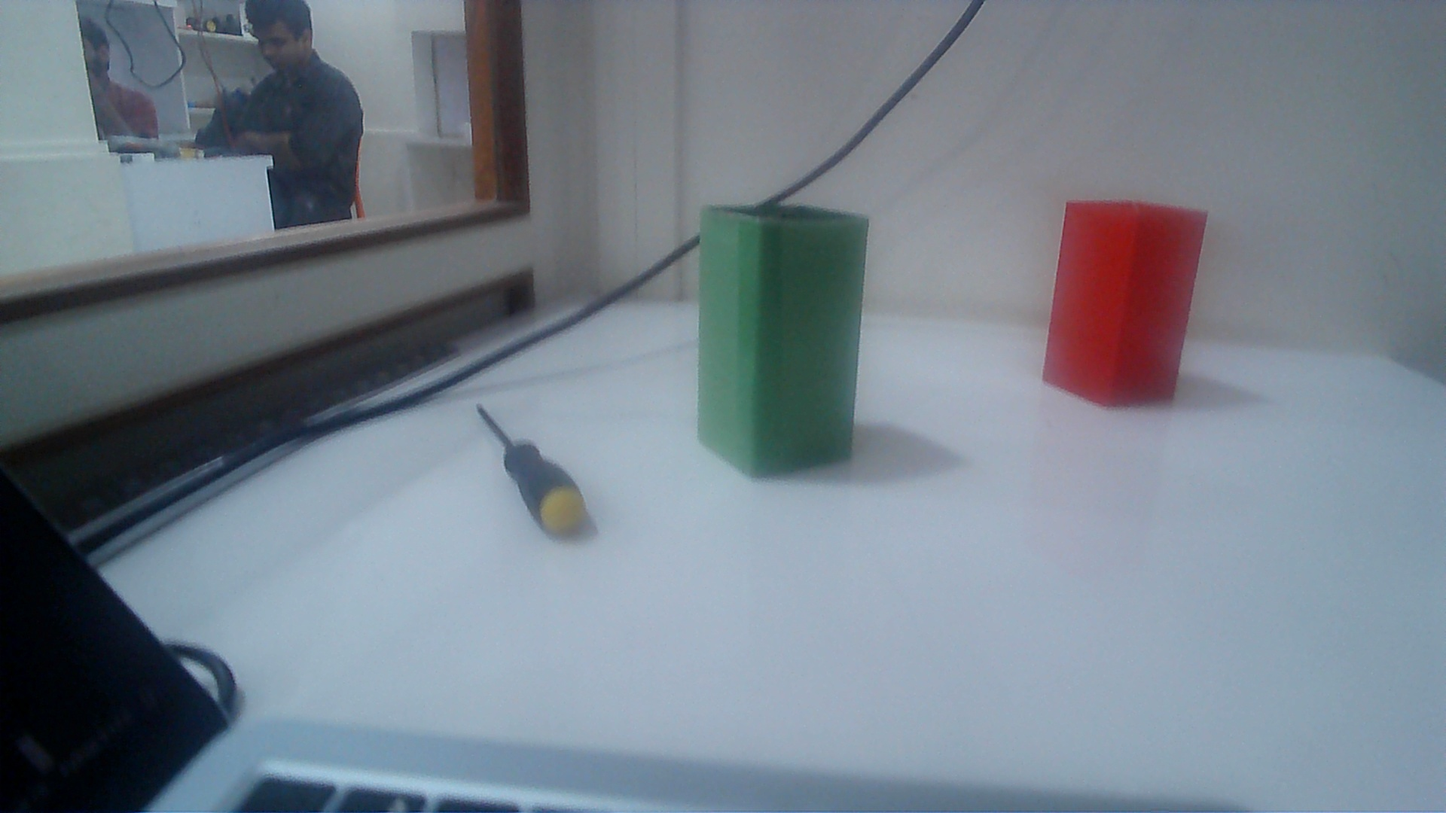green: (694, 209, 867, 478)
